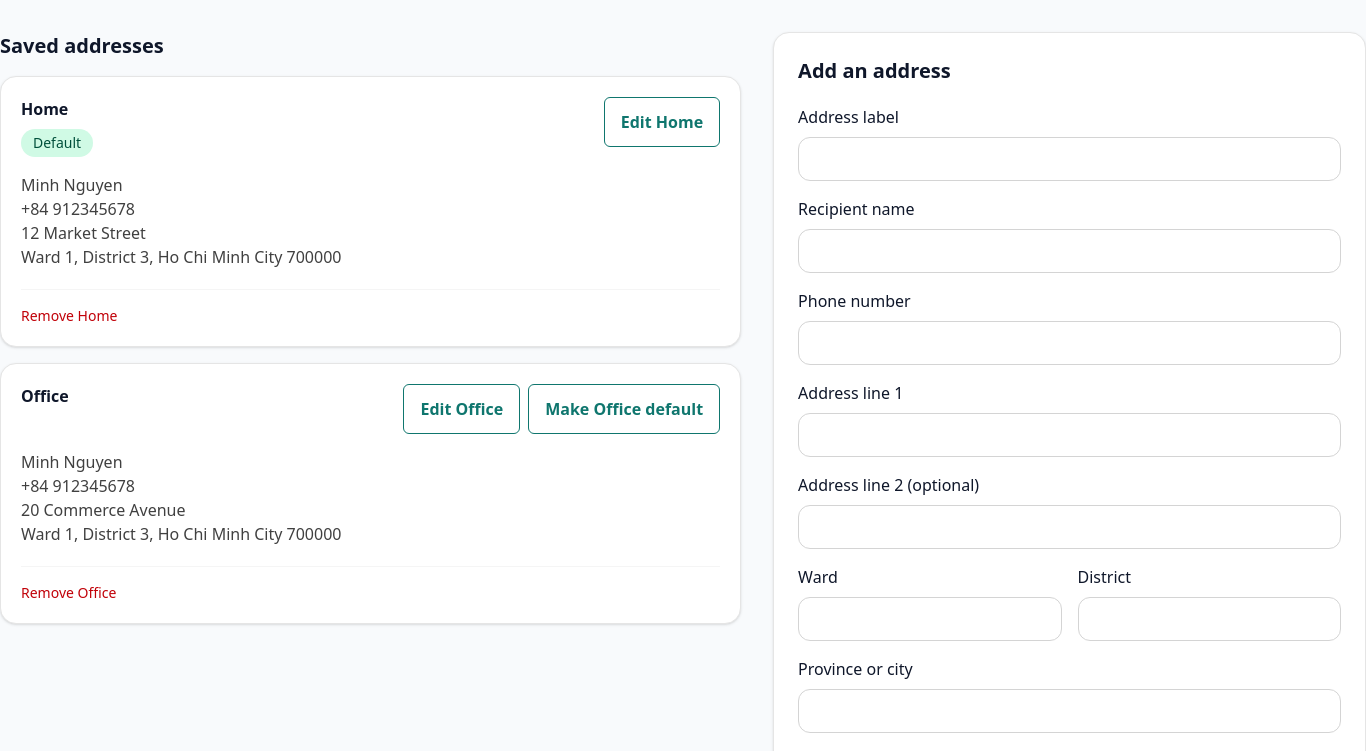
Test: address manager › edits, changes the default, and confirms soft removal
Check: the heading "Office" is shown, box [21, 384, 69, 408]
Click the button "Make Office default" at (624, 409), box [528, 384, 720, 434]
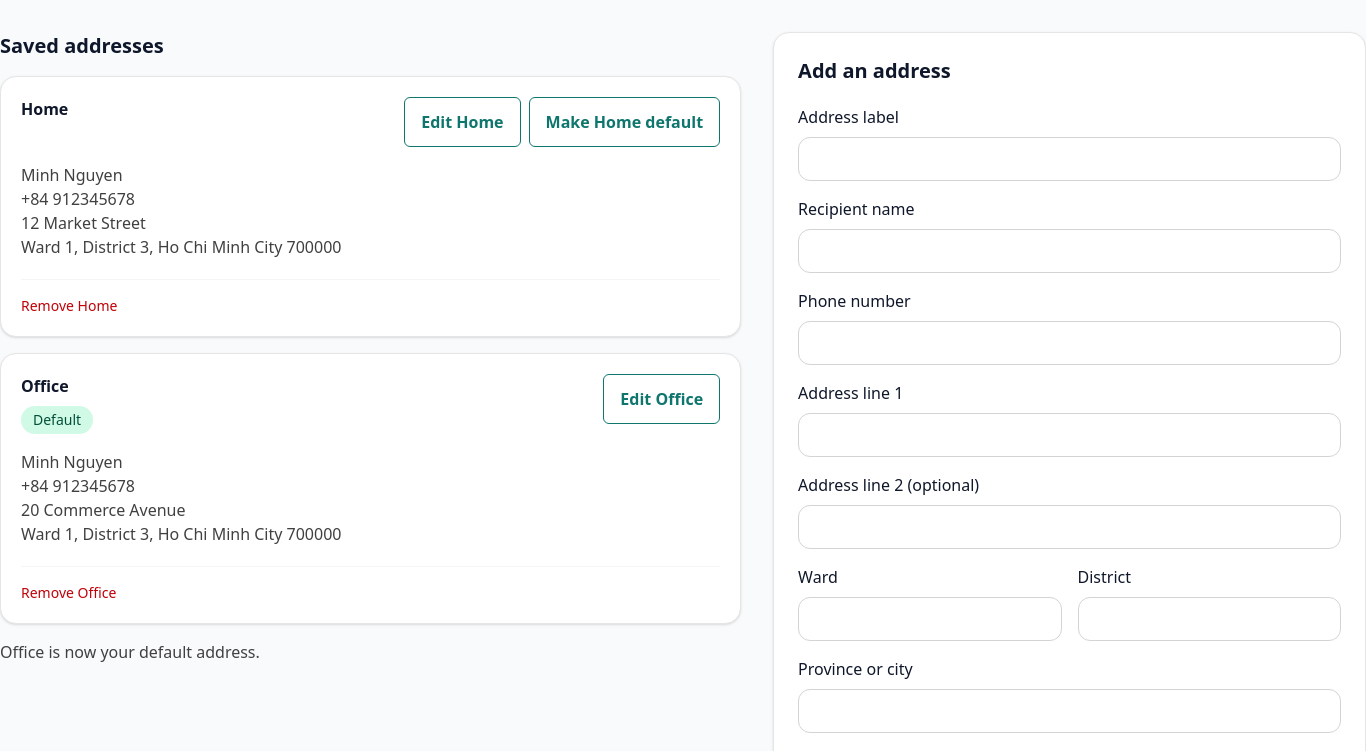
Check: the text "Office is now your default address." is shown, box [0, 641, 260, 663]
Click the button "Edit Office" at (662, 399), box [603, 374, 720, 424]
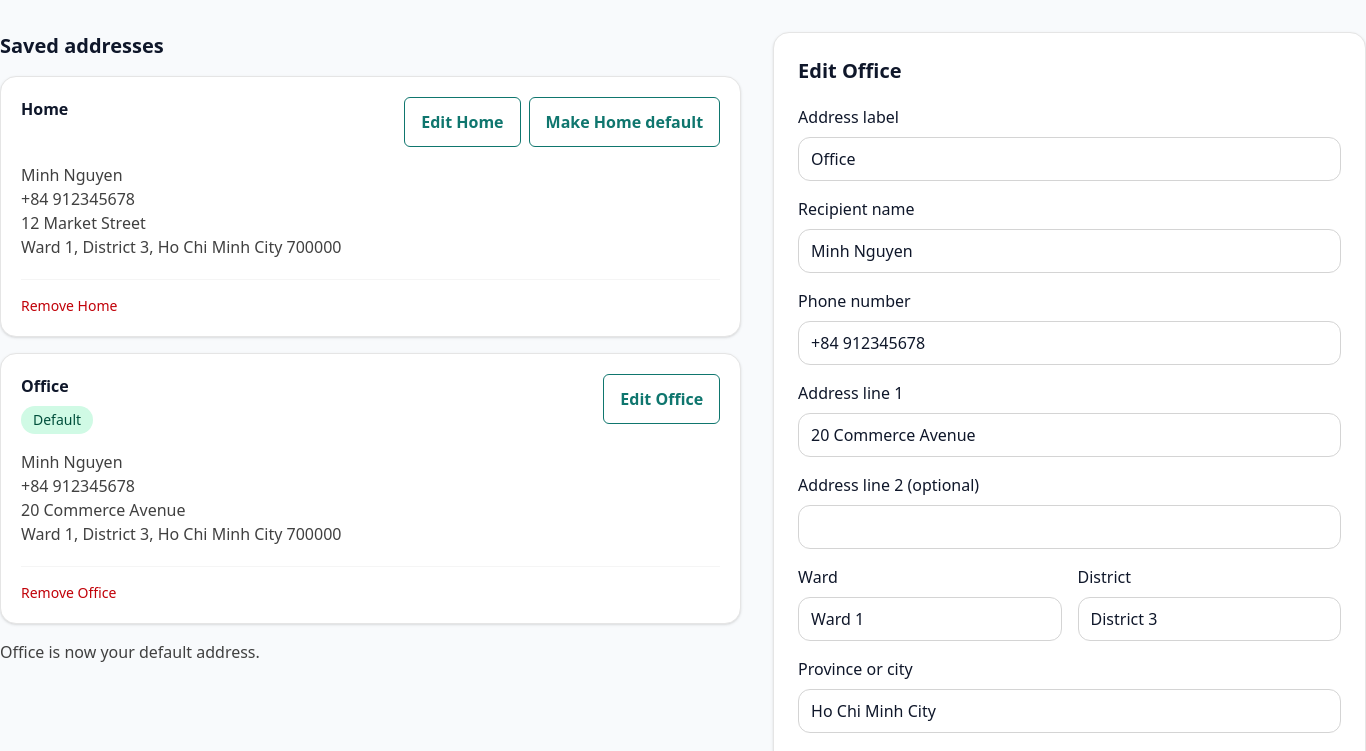
Replace the text in the field labelled "Address label" with "Work" at (1070, 159), box [798, 137, 1341, 181]
(page scrolled)
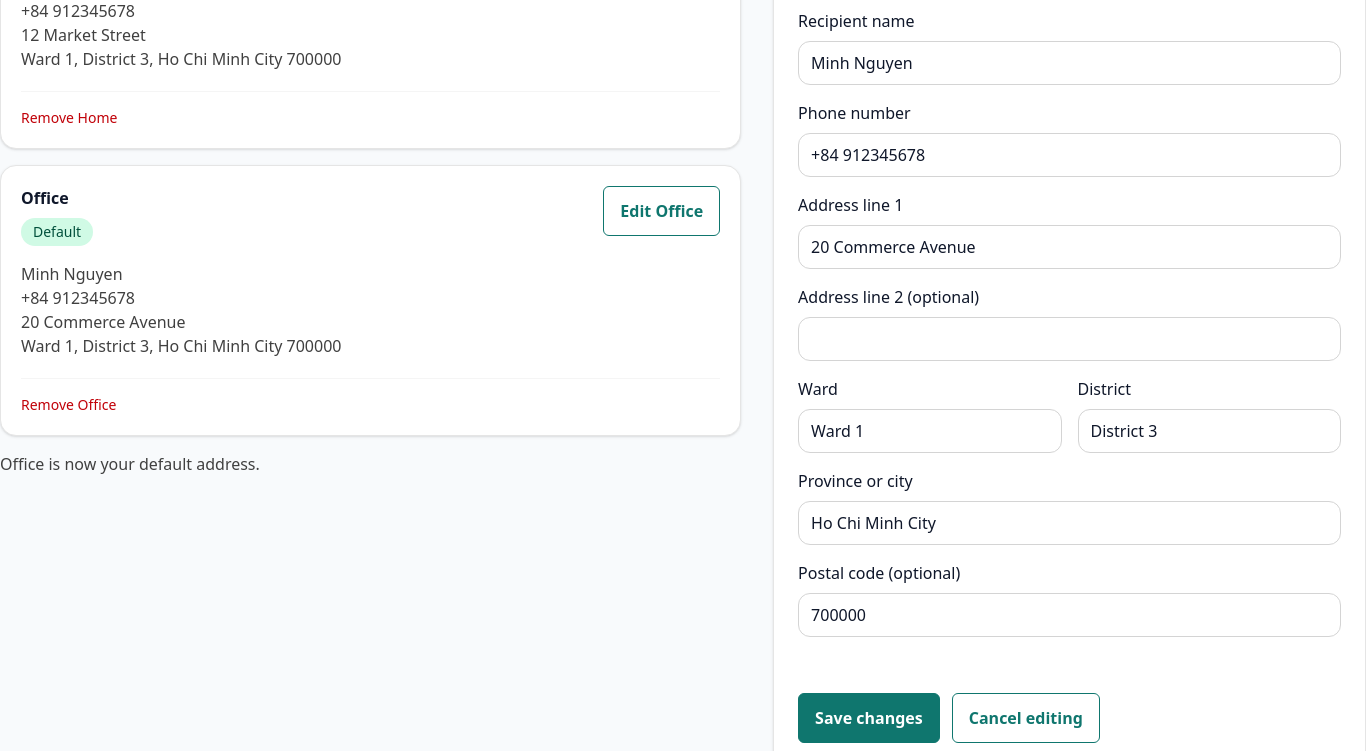
Click the button "Save changes" at (869, 718), box [798, 693, 940, 743]
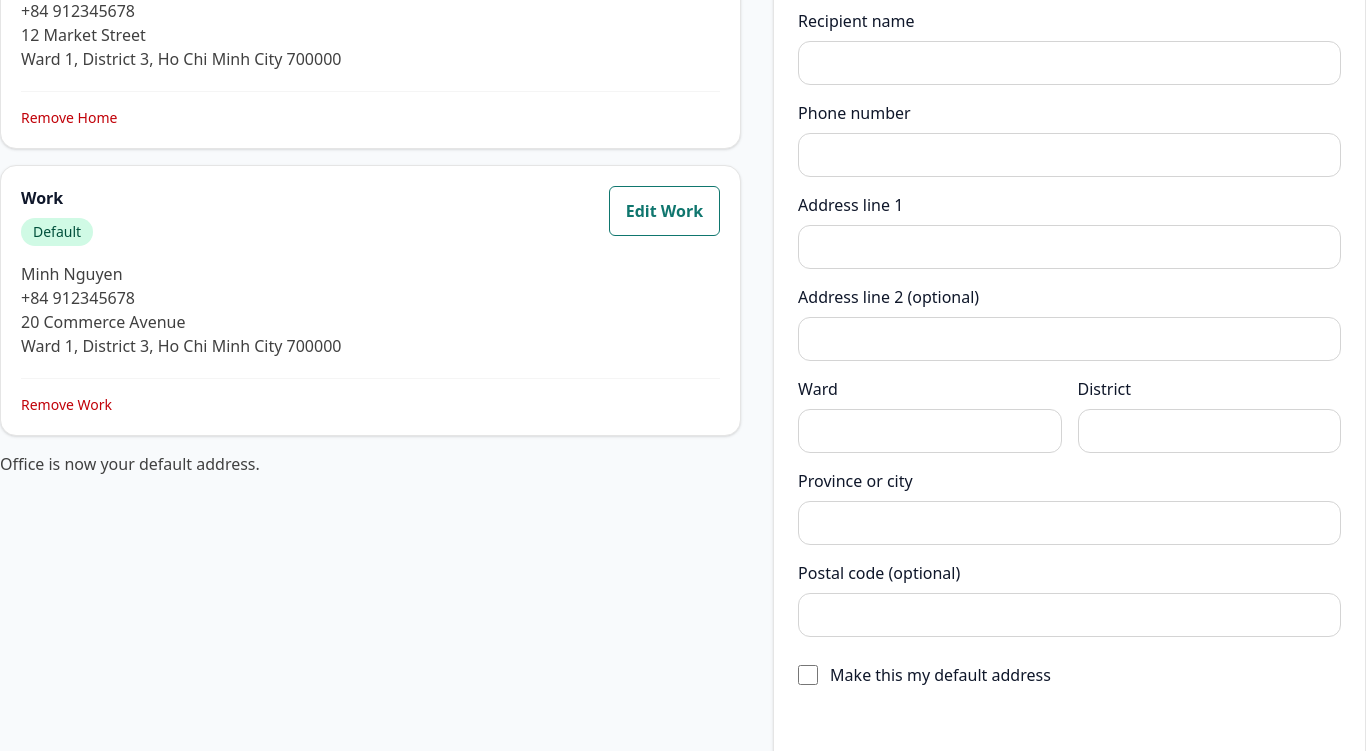
Check: the heading "Work" is shown, box [21, 187, 63, 209]
Click the button "Remove Work" at (66, 405), box [21, 395, 112, 415]
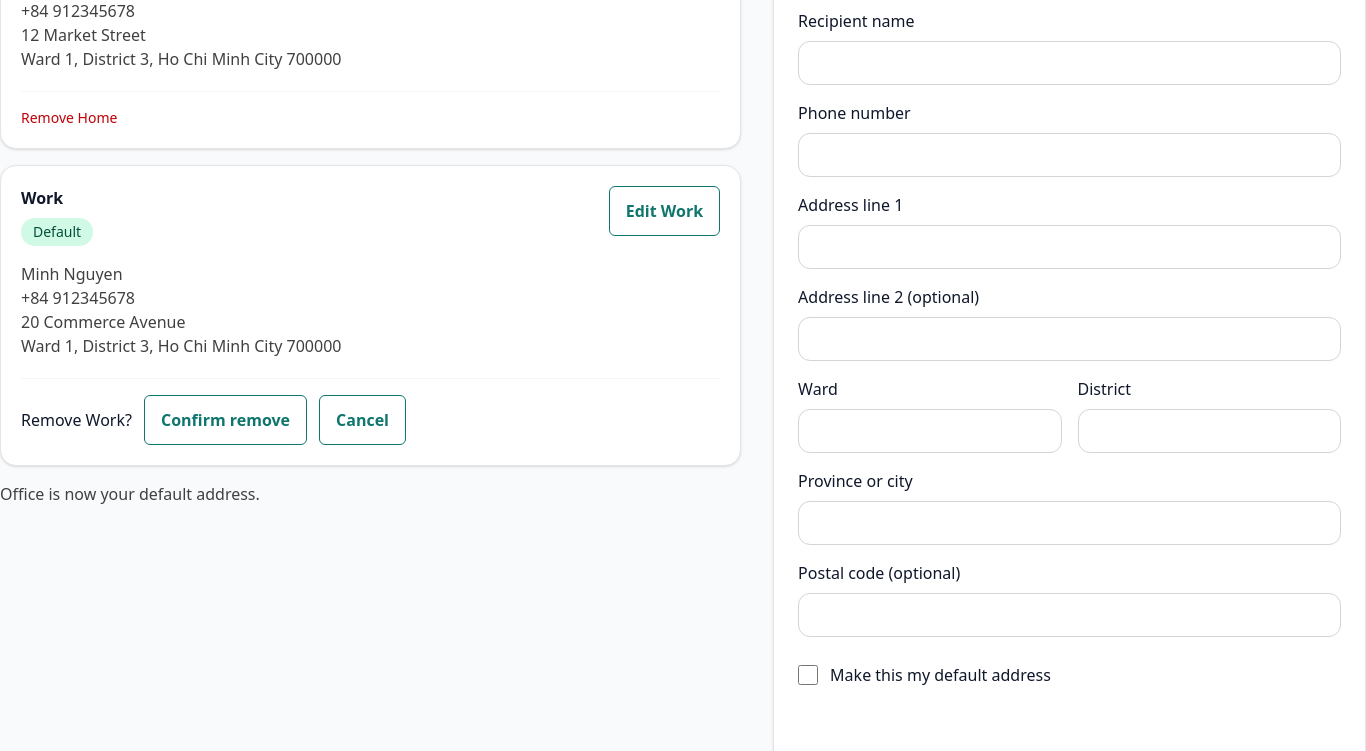
Check: the text "Remove Work?" is shown, box [21, 408, 132, 432]
Click the button "Confirm remove" at (226, 420), box [144, 395, 307, 445]
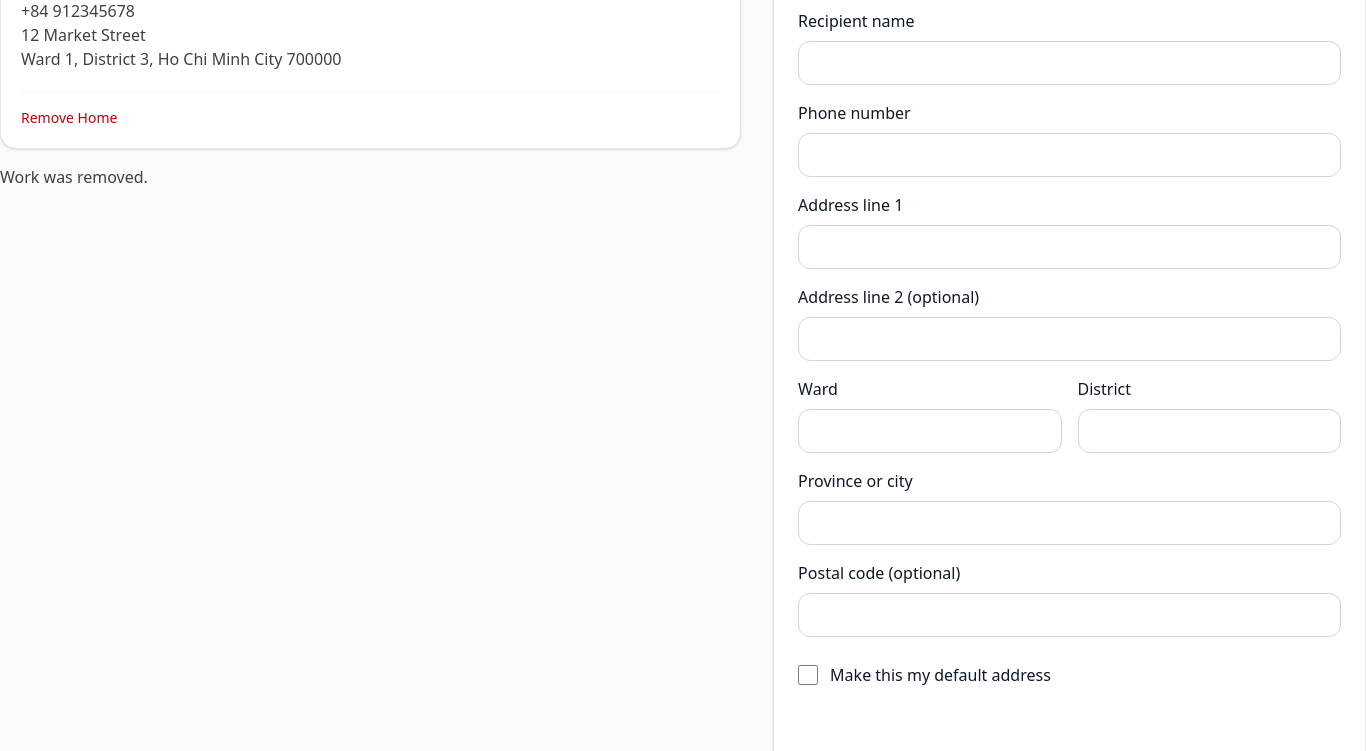
Check: the text "Work was removed." is shown, box [0, 166, 148, 188]
